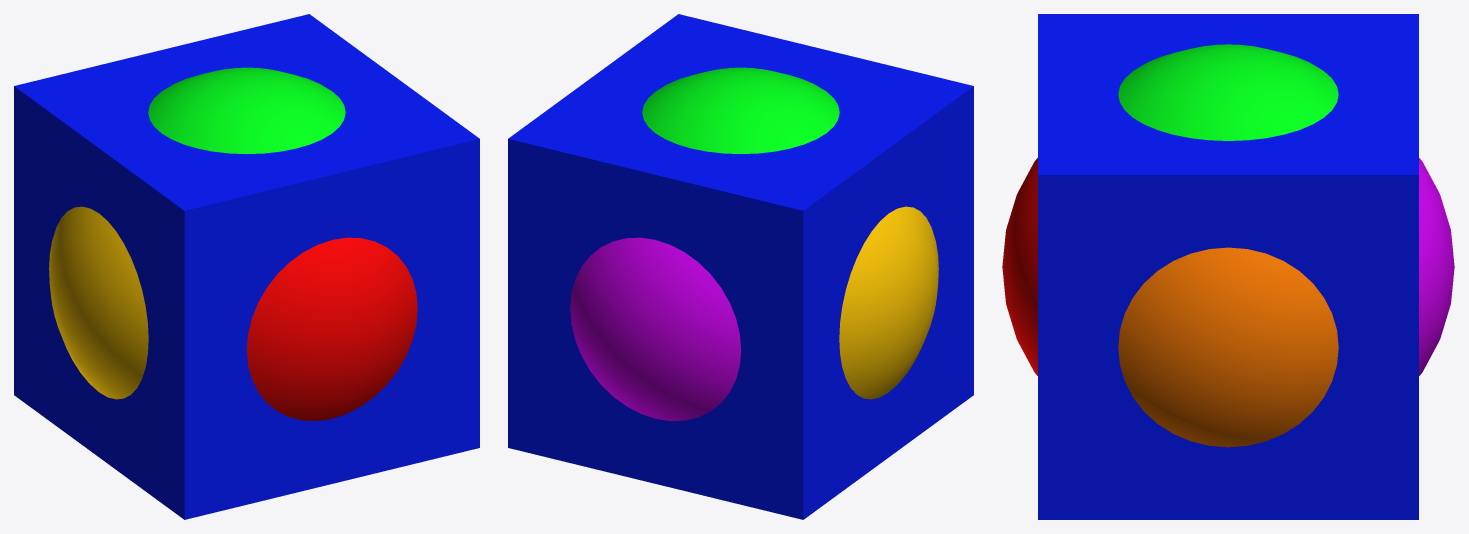
3 renders of one model, left to right at view 1: azimuth 30°, elevation 25°; view 2: azimuth 150°, elevation 25°; view 3: azimuth 270°, elevation 25°, orthographic. The views are drawn at different scales.
Parts seen in each view (by area): view 1: Объект_Капсула_3; view 2: Объект_Капсула_3; view 3: Объект_Капсула_3.
Part boxes in pixels (bbox=[...]): Объект_Капсула_3: bbox=[14, 14, 479, 519]; Объект_Капсула_3: bbox=[508, 14, 973, 519]; Объект_Капсула_3: bbox=[1002, 14, 1454, 519].
Bounding box in the file's own units: 1.19 × 1.19 × 1.19.
